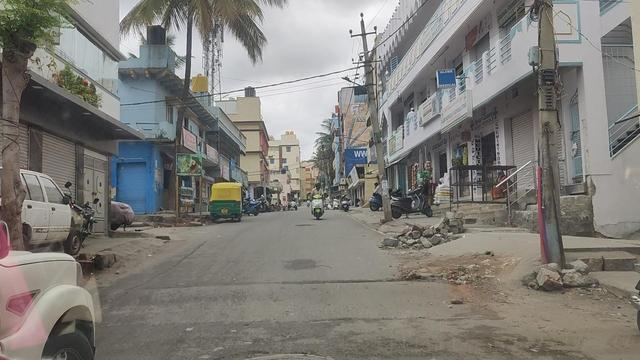RoadDamages: (298, 269, 450, 301)
